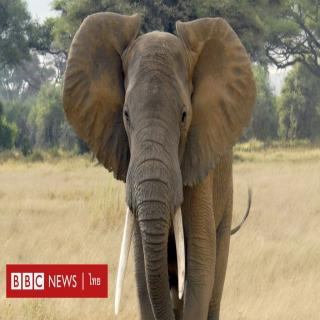Elephant: (59, 6, 255, 320)
